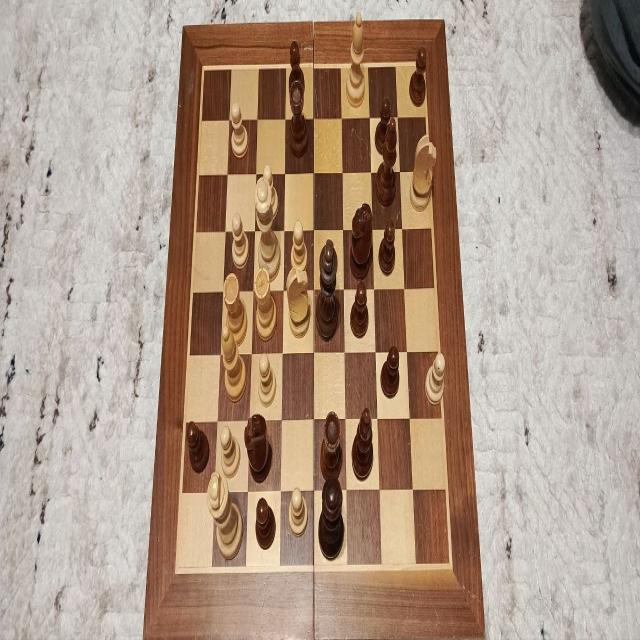black_bishop: (375, 118, 397, 206), (351, 407, 374, 481)
black_king: (315, 239, 338, 341)
black_knight: (244, 413, 271, 482), (349, 202, 372, 279)
black_pawn: (187, 421, 209, 473), (255, 496, 276, 550), (350, 282, 369, 338), (380, 345, 400, 398), (409, 46, 426, 108), (378, 219, 396, 277), (288, 41, 305, 96), (375, 99, 391, 154)
black_queen: (318, 473, 344, 560)
black_rook: (320, 411, 342, 482), (290, 80, 308, 157)
white_bishop: (346, 12, 365, 108), (222, 326, 246, 402)
white_king: (206, 470, 244, 560)
white_knight: (409, 134, 436, 211), (286, 267, 310, 338)
white_pawn: (220, 426, 241, 479), (425, 353, 445, 406), (232, 211, 249, 270), (288, 487, 308, 537), (258, 353, 276, 407), (231, 101, 248, 158), (262, 163, 278, 221), (291, 219, 308, 272)
white_queen: (254, 176, 280, 282)
white_rook: (223, 272, 248, 347), (254, 268, 277, 341)
